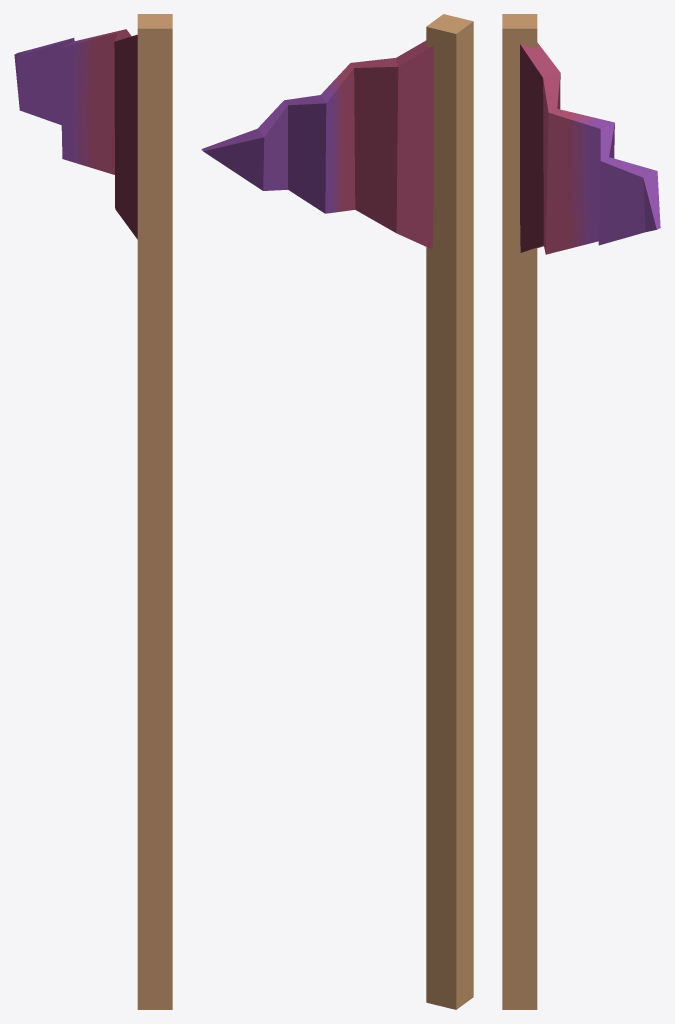
File: BerryFlag_model.fbx
The picture shows the model from 3 angles, left to right: view 1: azimuth 90°, elevation 25°; view 2: azimuth 150°, elevation 25°; view 3: azimuth 270°, elevation 25°; orthographic projection.
Parts seen in each view (by area): view 1: Wood, Flag; view 2: Wood, Flag; view 3: Wood, Flag.
Boxes of the visible parts, x1,y1,x2,y2 form: Wood: [137, 14, 172, 1009]; Flag: [14, 29, 137, 239]; Wood: [426, 14, 473, 1009]; Flag: [201, 40, 433, 249]; Wood: [502, 14, 537, 1009]; Flag: [520, 42, 660, 254].
Size of the model in its own units: 39.04 by 186 by 27.22.
